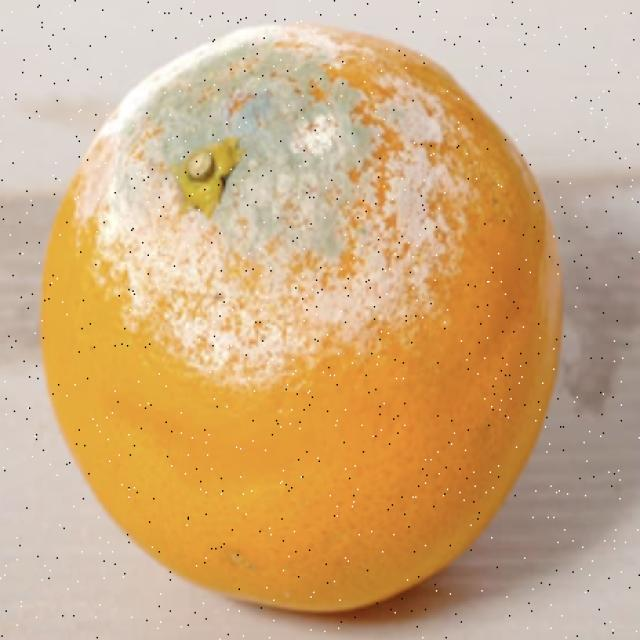sedikit-busuk: (41, 27, 561, 611), (95, 26, 441, 376)
